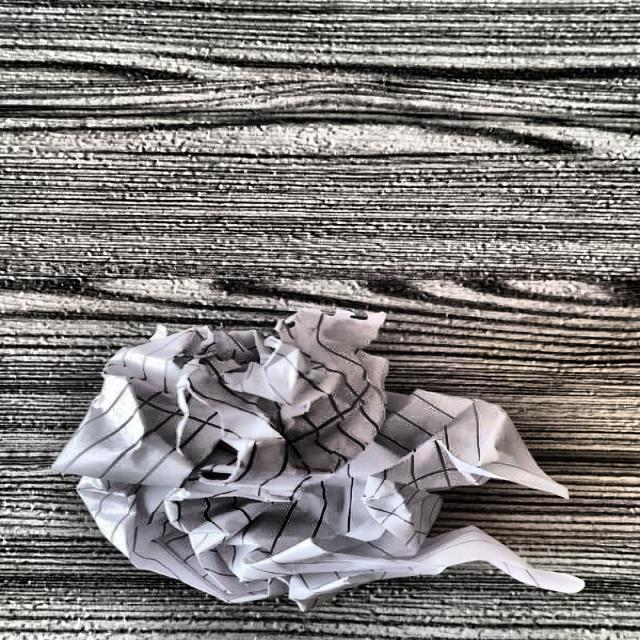paper: (79, 310, 549, 595)
